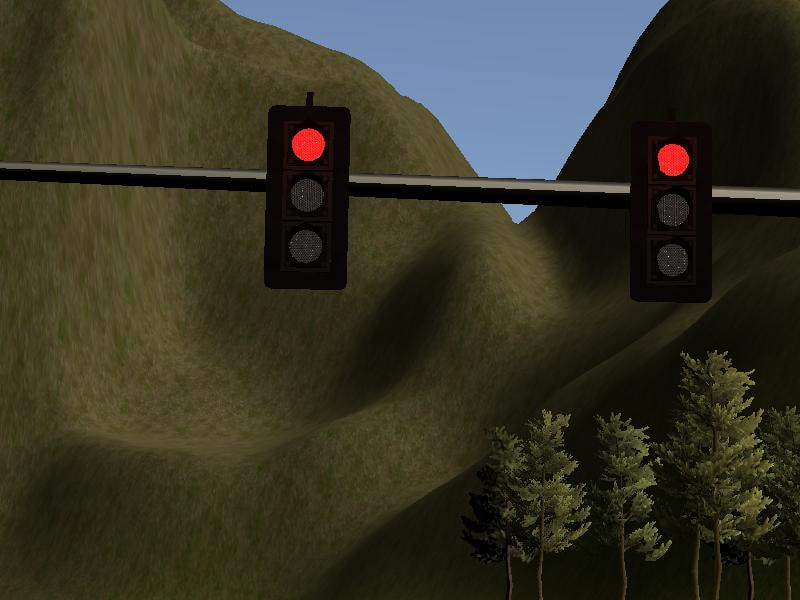red: (266, 106, 347, 291), (630, 117, 711, 302)
